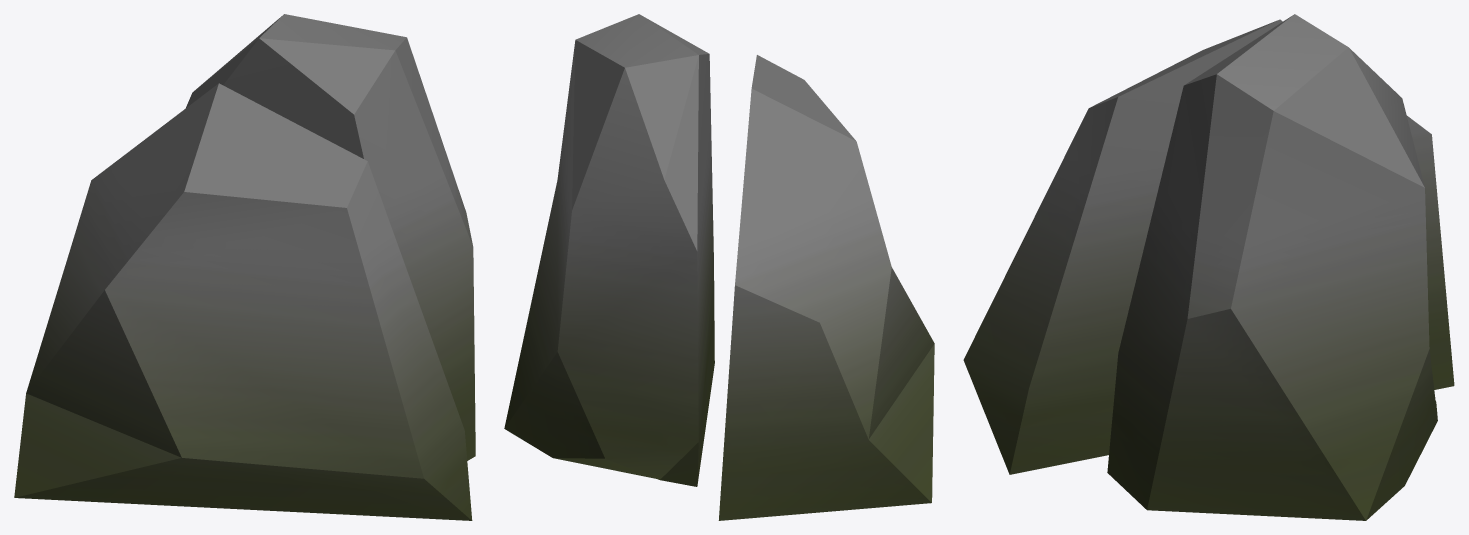
Rendered from ea_environment_stone_moss_01b_pre__3__lev1.glb.
3 views of the same model, side by side, from view 1: azimuth 30°, elevation 25°; view 2: azimuth 150°, elevation 25°; view 3: azimuth 270°, elevation 25° (orthographic). The views are drawn at different scales.
Visible parts, largest first — view 1: ea_environment_stone_moss_01b_pre__3__lev1; view 2: ea_environment_stone_moss_01b_pre__3__lev1; view 3: ea_environment_stone_moss_01b_pre__3__lev1.
Boxes of the visible parts, box(x1,y1,x2,y2) form: ea_environment_stone_moss_01b_pre__3__lev1: box(14, 14, 475, 520); ea_environment_stone_moss_01b_pre__3__lev1: box(504, 14, 934, 520); ea_environment_stone_moss_01b_pre__3__lev1: box(963, 14, 1454, 520).
Bounding box in the file's own units: 2.97 × 2.72 × 2.87.
Materials: 1 (1 with a texture image).
